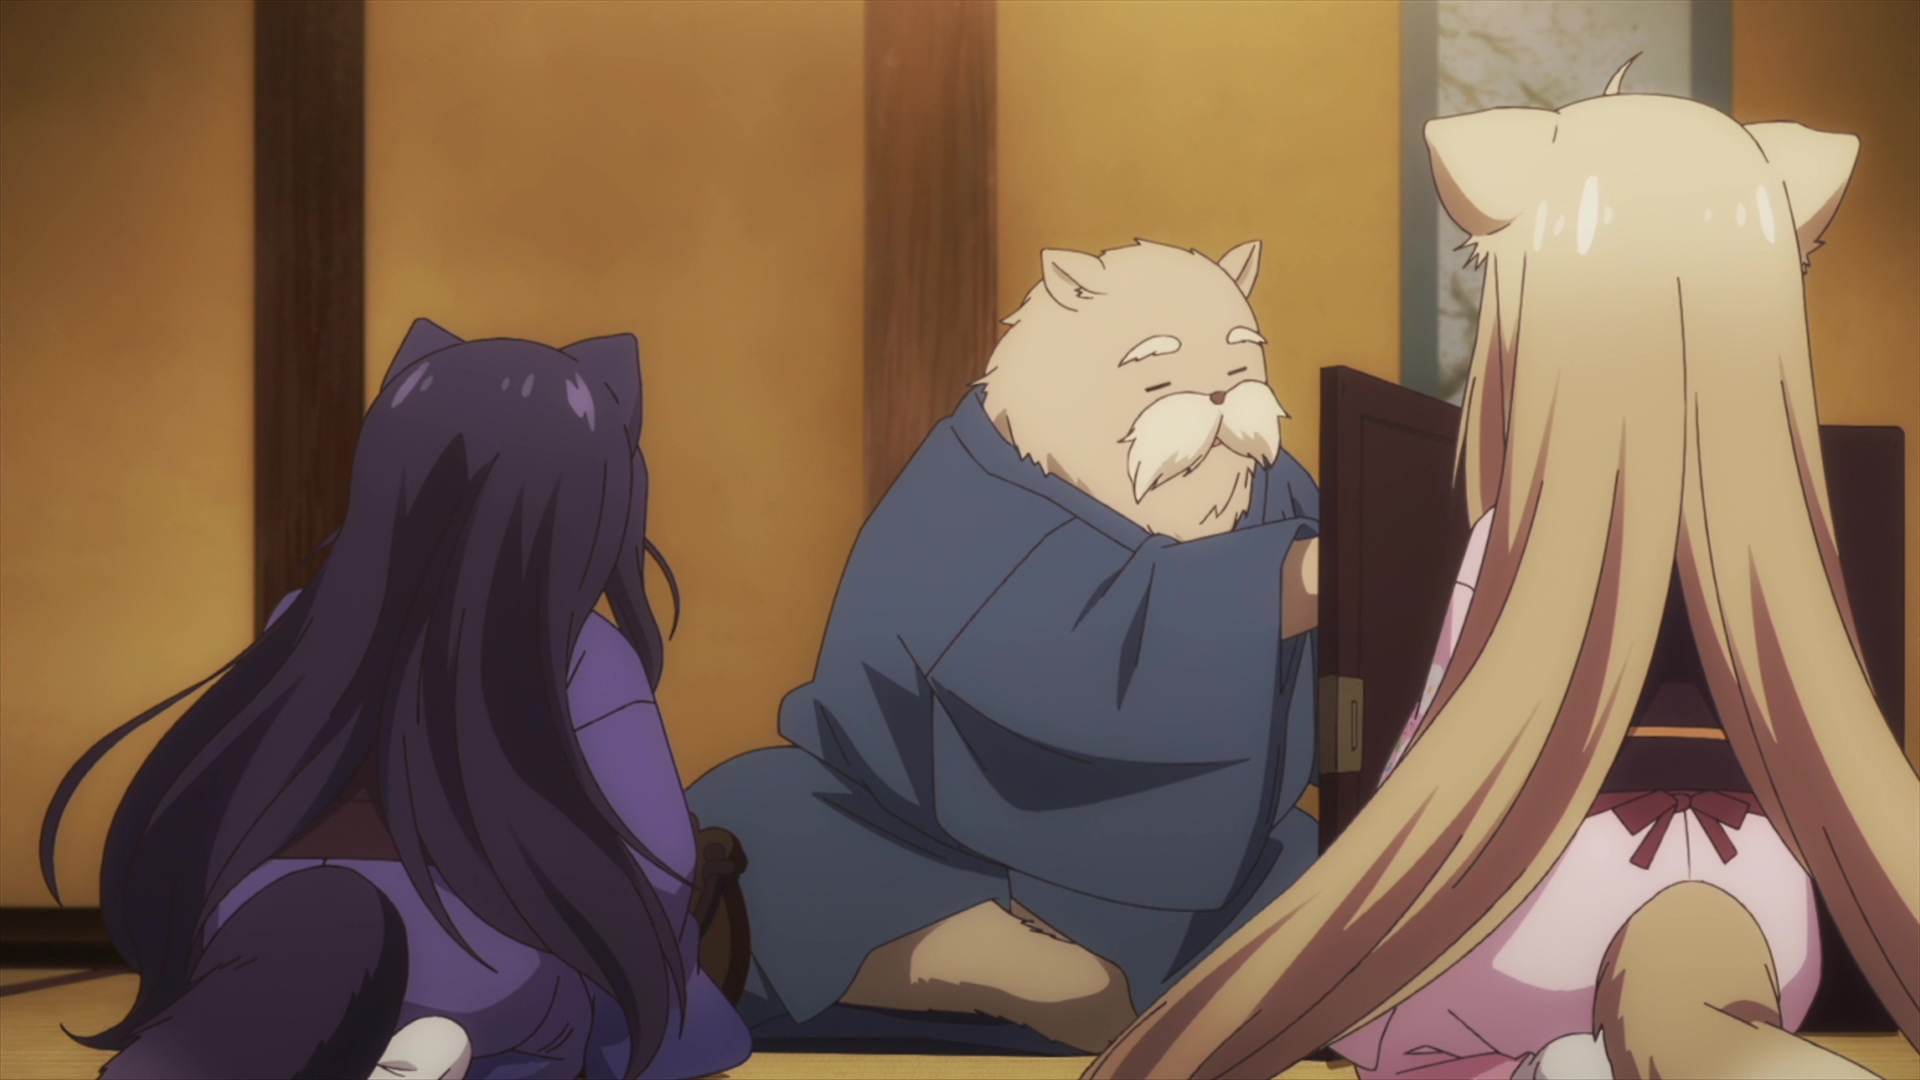柚: (1077, 50, 1920, 1080)
皋: (40, 316, 753, 1080)
药店老板: (680, 239, 1317, 1048)
